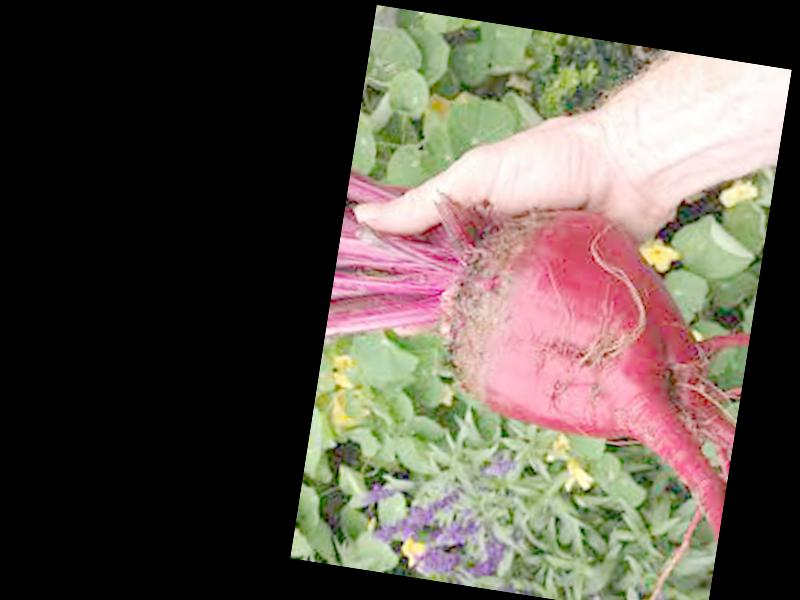Beet: (306, 174, 765, 534)
